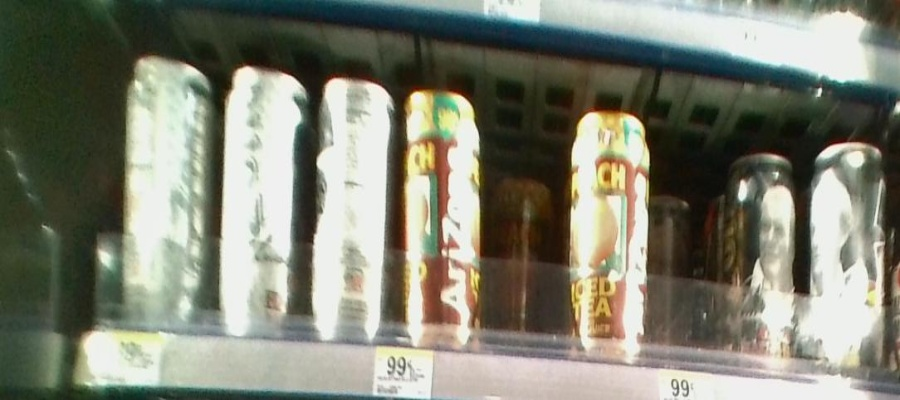bottle: (116, 46, 214, 325), (218, 60, 306, 338), (314, 69, 394, 346), (399, 85, 484, 343), (567, 95, 648, 359), (810, 140, 888, 377), (719, 149, 799, 354), (492, 148, 553, 354), (651, 187, 698, 355)
